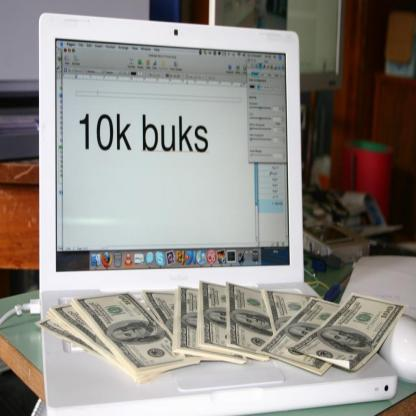board: (38, 10, 397, 416)
